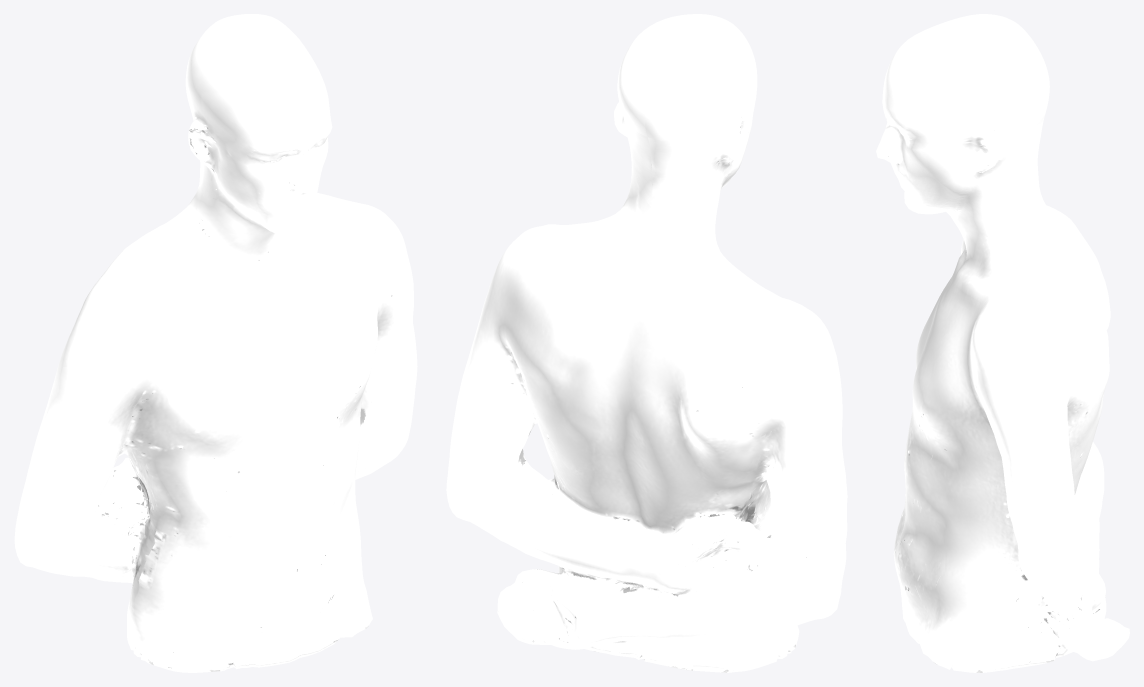
File: bpose1_lp.glb
The picture shows the model from 3 angles, left to right: view 1: azimuth 30°, elevation 25°; view 2: azimuth 150°, elevation 25°; view 3: azimuth 270°, elevation 25°; orthographic projection. The views are drawn at different scales.
Parts seen in each view (by area): view 1: bpose1_11kTris; view 2: bpose1_11kTris; view 3: bpose1_11kTris.
Boxes of the visible parts, bbox=[...] form: bpose1_11kTris: bbox=[14, 14, 417, 672]; bpose1_11kTris: bbox=[446, 14, 847, 672]; bpose1_11kTris: bbox=[876, 14, 1129, 672].
Size of the model in its own units: 7.91 by 11.84 by 4.55.
Materials: 1 (1 with a texture image).
